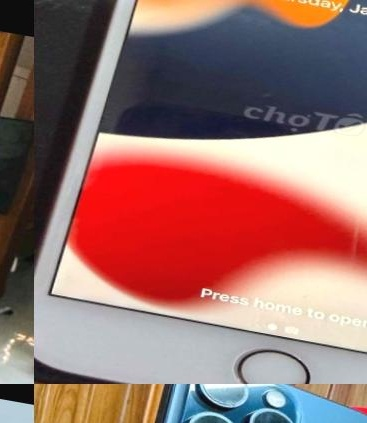scratch: (333, 198, 366, 262)
